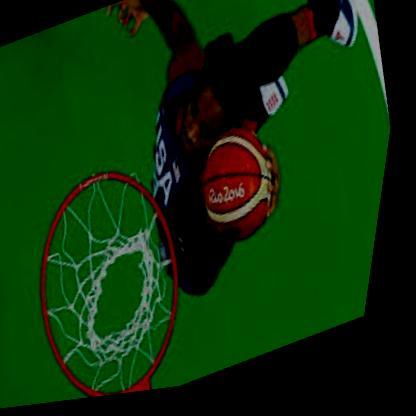basketball: (191, 125, 298, 261)
rim: (9, 147, 228, 411)
